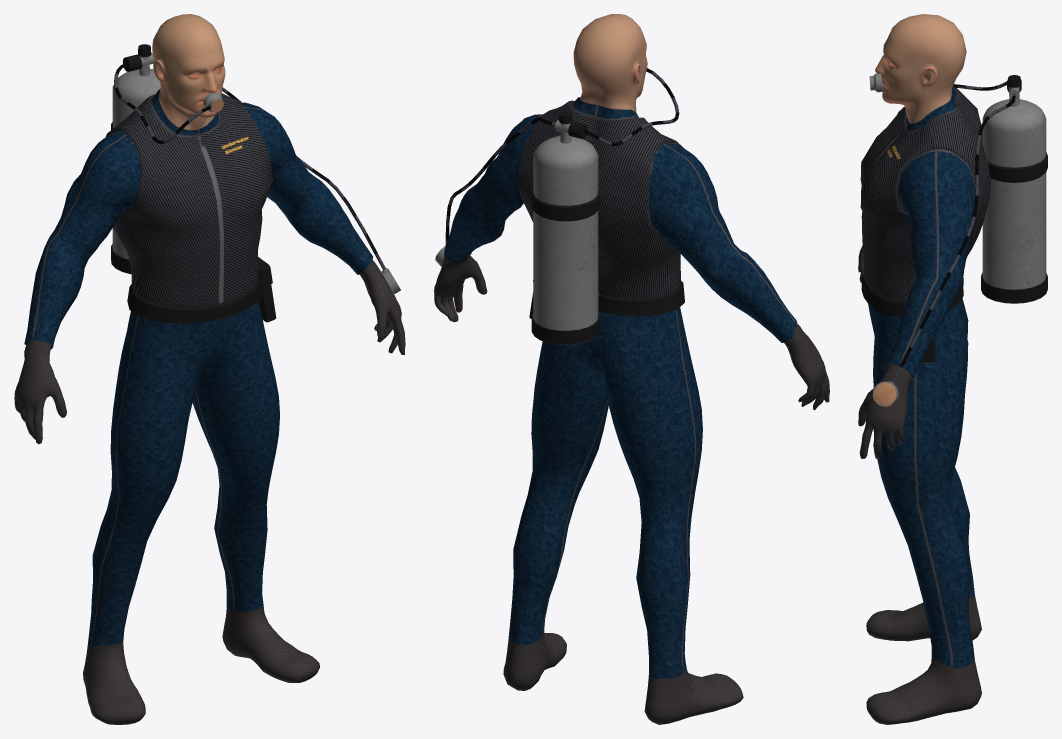
3 views of the same model, side by side, from view 1: azimuth 30°, elevation 25°; view 2: azimuth 150°, elevation 25°; view 3: azimuth 270°, elevation 25° (orthographic). The views are drawn at different scales.
Visible parts, largest first — view 1: Basemesh_humansdasd, Scuba_tank2, Pouch; view 2: Basemesh_humansdasd, Scuba_tank2; view 3: Basemesh_humansdasd, Scuba_tank2.
Boxes of the visible parts, left/top/right/bottom form: Basemesh_humansdasd: left=14, top=14, right=405, bottom=724; Scuba_tank2: left=111, top=44, right=400, bottom=293; Pouch: left=258, top=257, right=276, bottom=322; Basemesh_humansdasd: left=434, top=14, right=829, bottom=724; Scuba_tank2: left=435, top=68, right=679, bottom=344; Basemesh_humansdasd: left=858, top=14, right=990, bottom=724; Scuba_tank2: left=869, top=73, right=1047, bottom=406.
Size of the model in its own units: 108 by 182 by 47.34.
11 materials, 11 textured.
